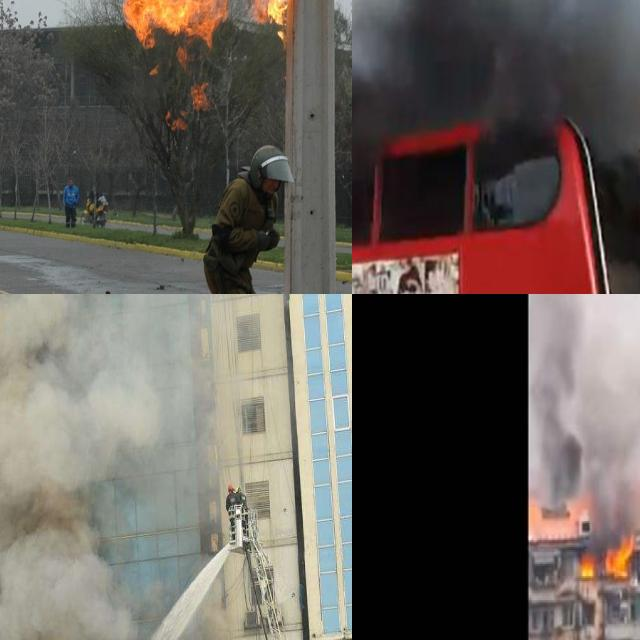fire: (122, 0, 290, 41), (603, 534, 635, 584), (578, 547, 596, 583)
smoke: (0, 294, 161, 640), (352, 0, 640, 125), (533, 294, 588, 493), (588, 333, 640, 523), (195, 587, 226, 640)
